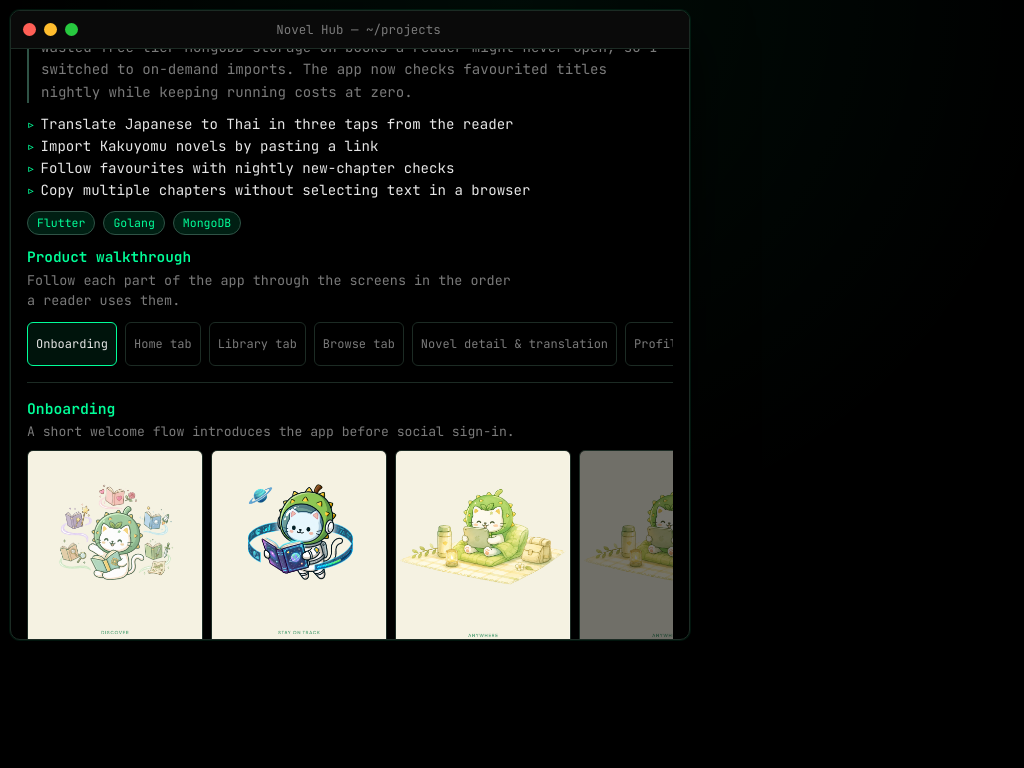
Scenario: ProjectWindow › renders a selected walkthrough flow from the group menu
(page scrolled)
Check: the heading "Onboarding" is shown, box [27,399,115,418]
Step 1. Click the button "Home tab" → (163, 344), box [125,322,201,366]
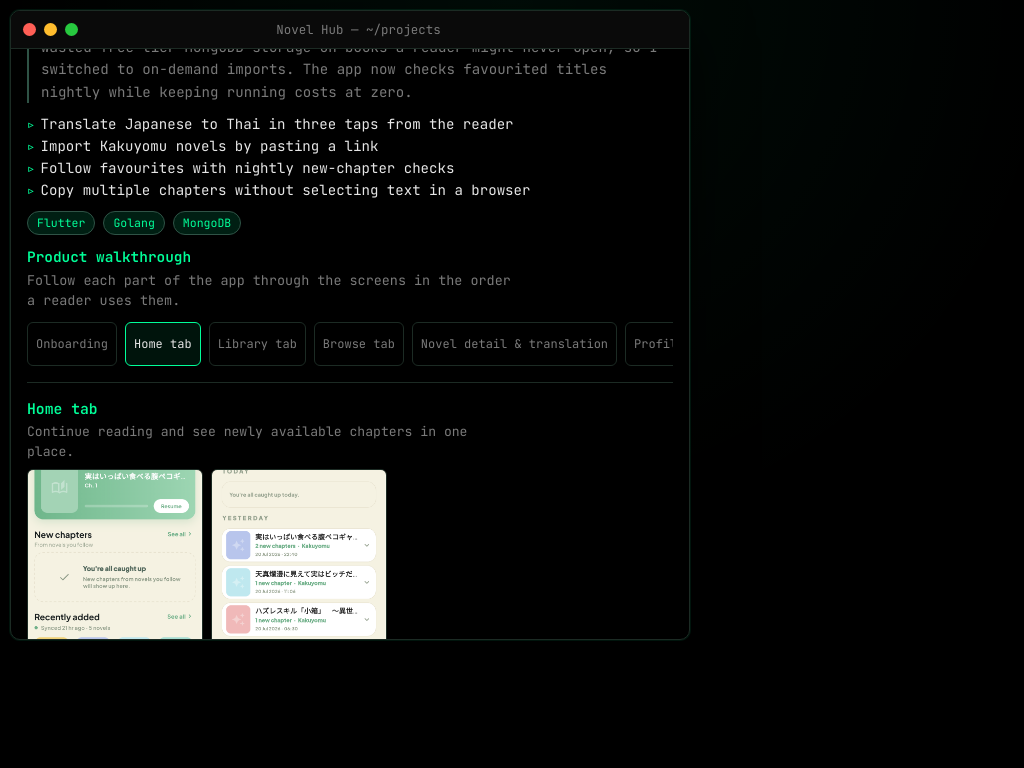
Check: the heading "Home tab" is shown, box [27,399,98,418]
